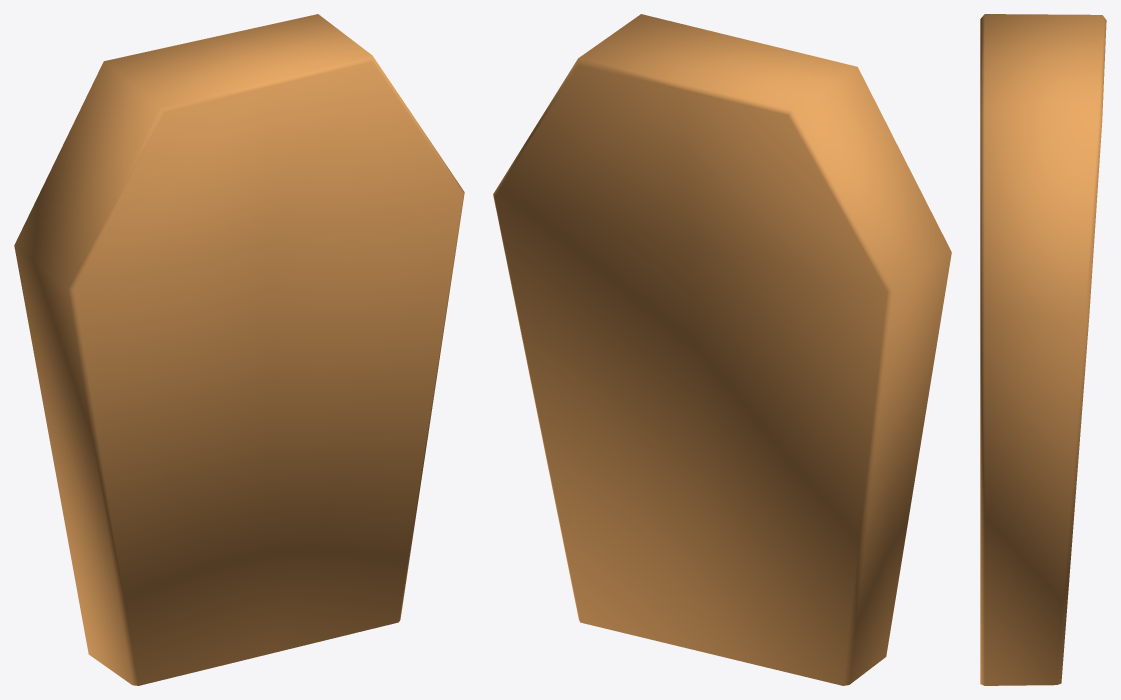
File: 4Th_Wall_Grave.fbx
The picture shows the model from 3 angles, left to right: view 1: azimuth 30°, elevation 25°; view 2: azimuth 150°, elevation 25°; view 3: azimuth 270°, elevation 25°; orthographic projection. The views are drawn at different scales.
Visible parts, largest first — view 1: polySurface188; view 2: polySurface188; view 3: polySurface188.
Boxes of the visible parts, x1=… form: polySurface188: x1=14, y1=14, x2=464, y2=685; polySurface188: x1=493, y1=14, x2=951, y2=685; polySurface188: x1=980, y1=14, x2=1106, y2=685.
Size of the model in its own units: 2.18 by 3 by 0.6129.
